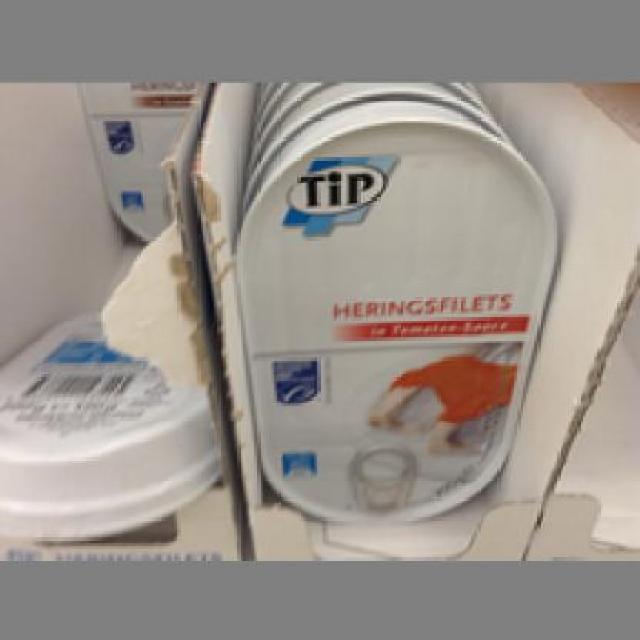Fish: (229, 97, 560, 526), (0, 311, 217, 540)
